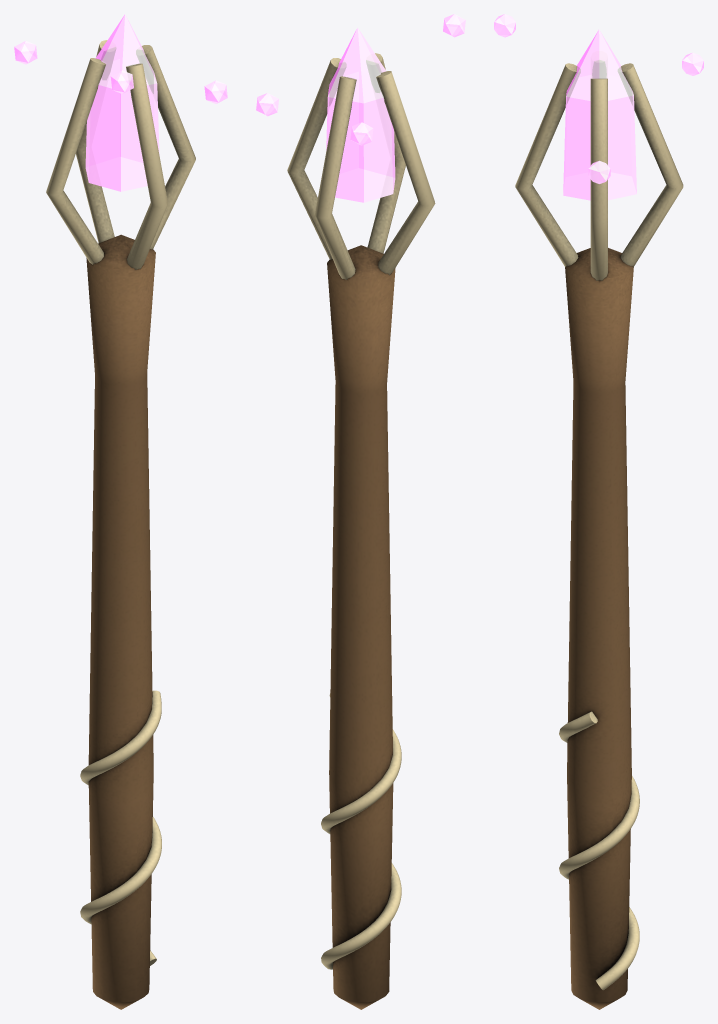
Rendered from arma_varinha_bruxa_n3.glb.
3 views of the same model, side by side, from view 1: azimuth 30°, elevation 25°; view 2: azimuth 150°, elevation 25°; view 3: azimuth 270°, elevation 25° (orthographic).
Visible parts, largest first — view 1: arma_varinha_bruxa_n3, cristal; view 2: arma_varinha_bruxa_n3, cristal; view 3: arma_varinha_bruxa_n3, cristal.
Boxes of the visible parts, x1,y1,x2,y2 form: arma_varinha_bruxa_n3: (46,40,195,1009); cristal: (85,14,159,191); arma_varinha_bruxa_n3: (287,53,435,1009); cristal: (326,27,395,202); arma_varinha_bruxa_n3: (515,60,683,1009); cristal: (563,29,636,200).
Bounding box in the file's own units: 0.0942 × 0.5006 × 0.0969.
Materials: 5 (1 with a texture image).
